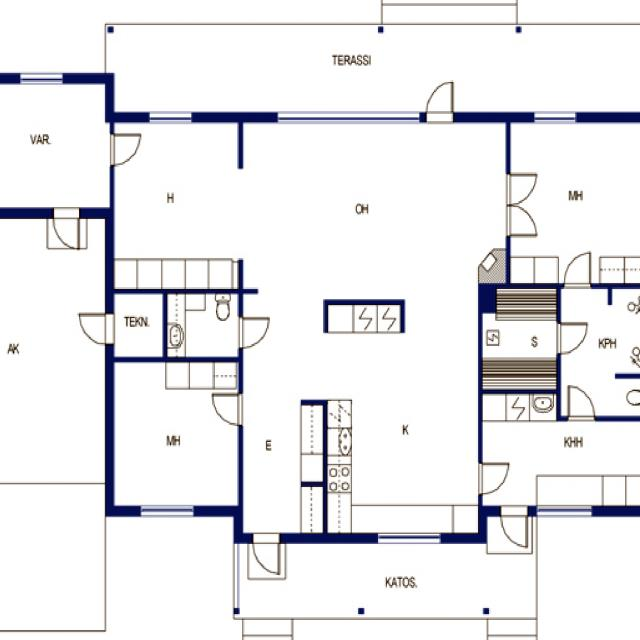door: (253, 533, 280, 575), (501, 507, 528, 548), (53, 208, 79, 248), (427, 82, 453, 122), (110, 134, 141, 167), (507, 174, 538, 206), (479, 464, 510, 495), (507, 206, 538, 237), (81, 315, 114, 344), (570, 386, 596, 422), (213, 396, 244, 426), (565, 254, 591, 289), (239, 319, 269, 349), (558, 324, 588, 354)
